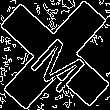M_NE: (21, 21, 89, 89)
